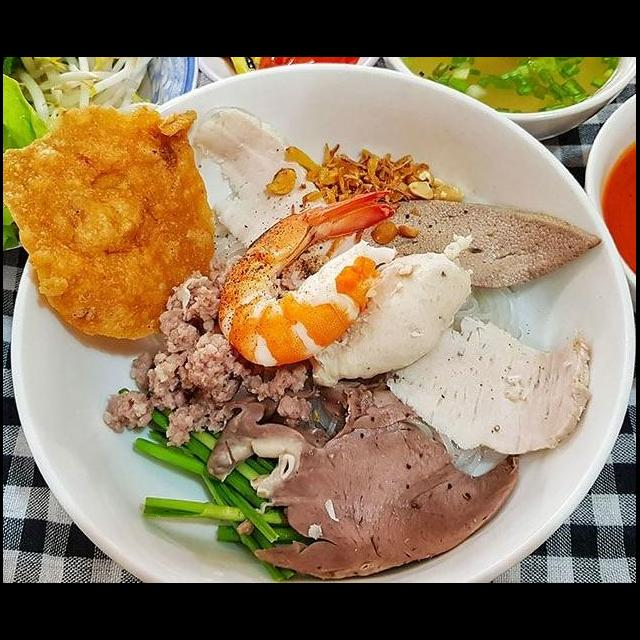gan: (334, 195, 606, 293)
thit bam: (89, 257, 322, 449)
thit heo: (186, 102, 370, 287), (380, 311, 598, 462), (307, 231, 483, 392)
tom: (212, 186, 412, 367)
